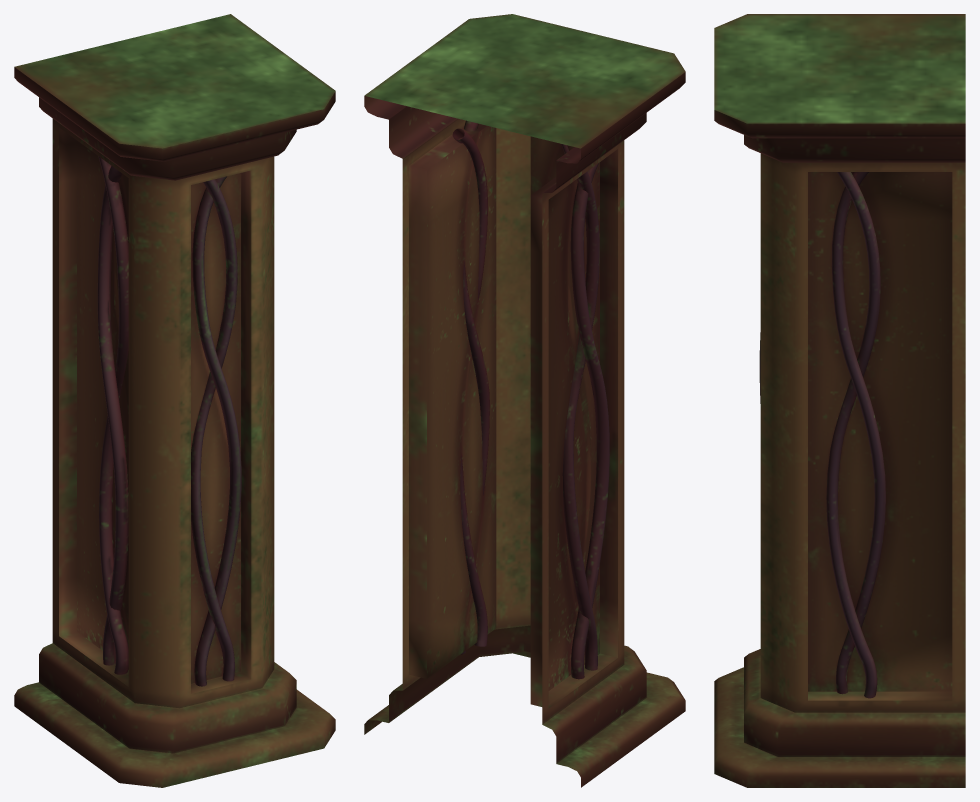
File: Columna.fbx
The picture shows the model from 3 angles, left to right: view 1: azimuth 30°, elevation 25°; view 2: azimuth 150°, elevation 25°; view 3: azimuth 270°, elevation 25°; orthographic projection. The views are drawn at different scales.
Parts seen in each view (by area): view 1: Cube.111; view 2: Cube.111; view 3: Cube.111.
Part boxes in pixels (box(x1,y1,x2,y2)): Cube.111: box(14, 14, 335, 787); Cube.111: box(364, 14, 685, 787); Cube.111: box(714, 14, 965, 787).
Size of the model in its own units: 1.8 by 5.08 by 1.74.
